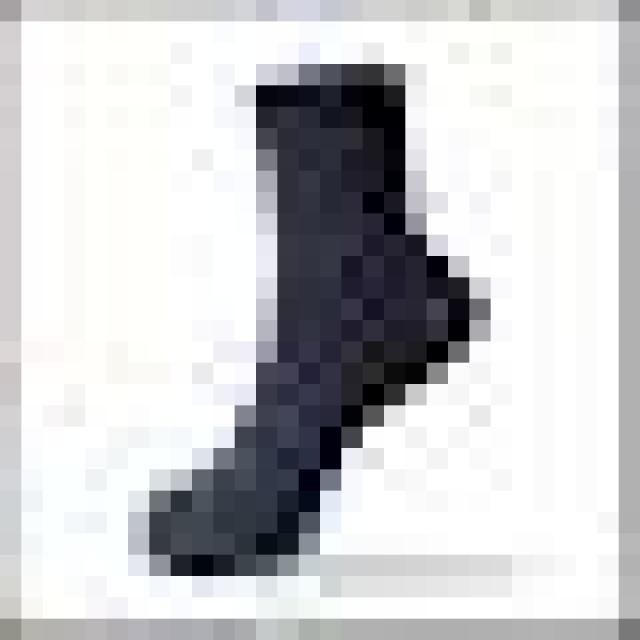sock: (128, 43, 491, 576)
